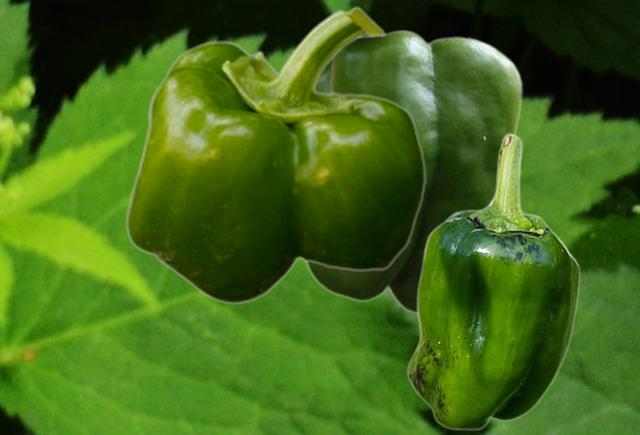bell_pepper: (125, 6, 425, 304), (302, 29, 523, 314), (406, 132, 579, 430)
